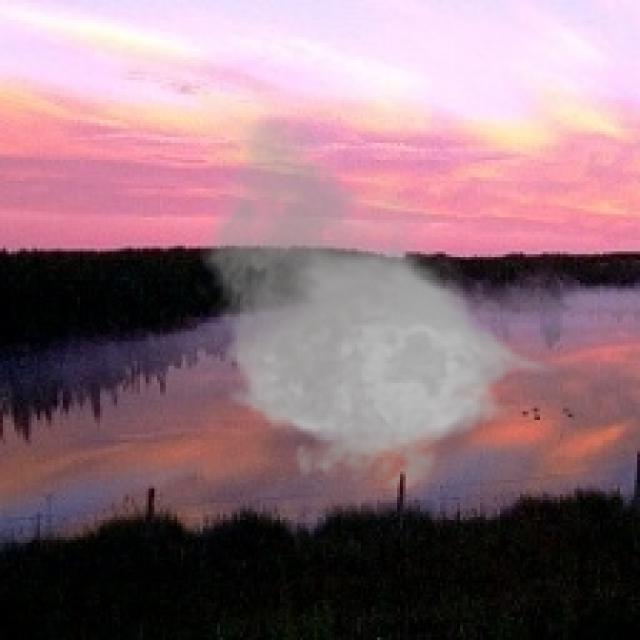Smoke: (188, 108, 563, 503)
